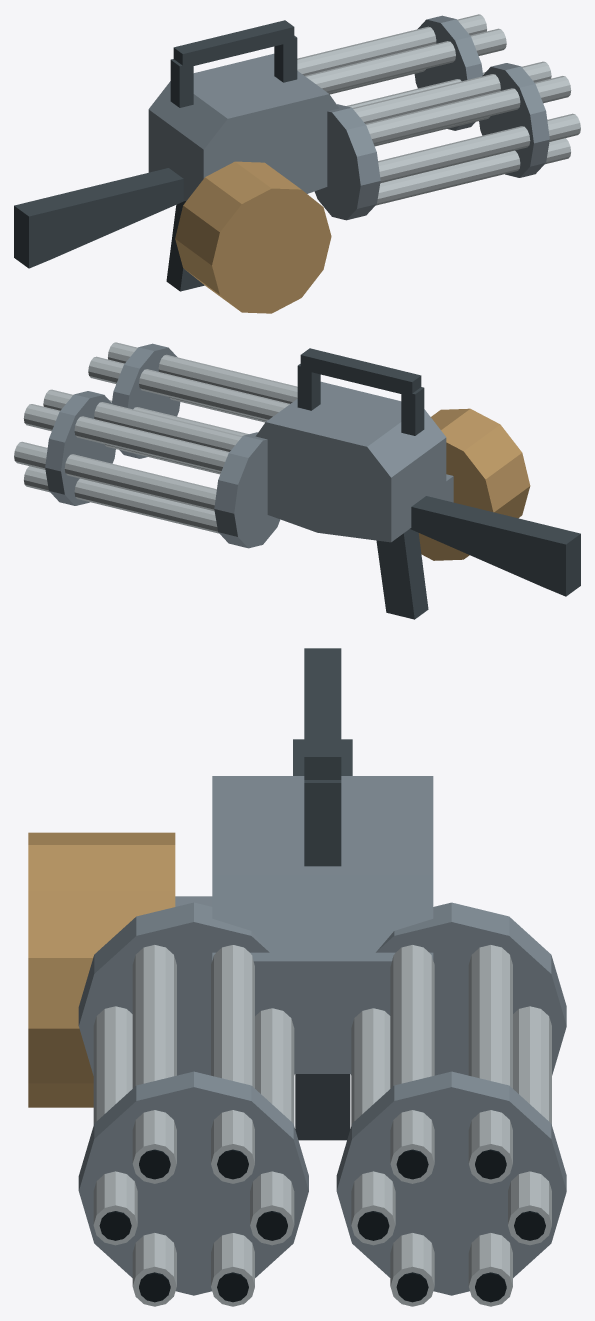
File: w09-hailstorm-static.glb
3 renders of one model, top to bottom at view 1: azimuth 30°, elevation 25°; view 2: azimuth 150°, elevation 25°; view 3: azimuth 270°, elevation 25°, orthographic. The views are drawn at different scales.
Visible parts, largest first — view 1: w09-hailstorm__receiver.001, w09-hailstorm__feed_drum.001, w09-hailstorm__stock.001, w09-hailstorm__rotor_rear_0.001, w09-hailstorm__tube_0_3.001, w09-hailstorm__tube_0_2.001, w09-hailstorm__tube_1_2.001, w09-hailstorm__rotor_front_0.001, w09-hailstorm__tube_0_4.001, w09-hailstorm__tube_0_1.001, w09-hailstorm__tube_1_1.001, w09-hailstorm__carry_handle_top.001 (+5 smaller); view 2: w09-hailstorm__receiver.001, w09-hailstorm__stock.001, w09-hailstorm__feed_drum.001, w09-hailstorm__rotor_rear_1.001, w09-hailstorm__tube_1_0.001, w09-hailstorm__tube_1_1.001, w09-hailstorm__tube_0_1.001, w09-hailstorm__rotor_front_1.001, w09-hailstorm__tube_1_5.001, w09-hailstorm__grip.001, w09-hailstorm__tube_1_2.001, w09-hailstorm__tube_0_2.001 (+5 smaller); view 3: w09-hailstorm__receiver.001, w09-hailstorm__feed_drum.001, w09-hailstorm__rotor_front_1.001, w09-hailstorm__rotor_front_0.001, w09-hailstorm__rotor_rear_1.001, w09-hailstorm__rotor_rear_0.001, w09-hailstorm__tube_0_2.001, w09-hailstorm__tube_1_2.001, w09-hailstorm__tube_1_1.001, w09-hailstorm__tube_0_1.001, w09-hailstorm__tube_0_3.001, w09-hailstorm__tube_0_0.001 (+10 smaller).
Part boxes in pixels (x1,y1,x2,y2): w09-hailstorm__receiver.001: [148, 53, 339, 201]; w09-hailstorm__feed_drum.001: [175, 161, 331, 313]; w09-hailstorm__stock.001: [14, 168, 184, 268]; w09-hailstorm__rotor_rear_0.001: [314, 104, 380, 220]; w09-hailstorm__tube_0_3.001: [378, 113, 580, 183]; w09-hailstorm__tube_0_2.001: [365, 76, 571, 144]; w09-hailstorm__tube_1_2.001: [305, 28, 506, 92]; w09-hailstorm__rotor_front_0.001: [479, 63, 549, 177]; w09-hailstorm__tube_0_4.001: [376, 138, 570, 205]; w09-hailstorm__tube_0_1.001: [352, 61, 551, 123]; w09-hailstorm__tube_1_1.001: [297, 14, 486, 75]; w09-hailstorm__carry_handle_top.001: [173, 20, 294, 68]; w09-hailstorm__receiver.001: [255, 381, 446, 542]; w09-hailstorm__stock.001: [410, 496, 580, 596]; w09-hailstorm__feed_drum.001: [418, 408, 530, 560]; w09-hailstorm__rotor_rear_1.001: [214, 432, 280, 548]; w09-hailstorm__tube_1_0.001: [14, 441, 216, 511]; w09-hailstorm__tube_1_1.001: [23, 404, 229, 472]; w09-hailstorm__tube_0_1.001: [88, 356, 289, 420]; w09-hailstorm__rotor_front_1.001: [45, 391, 115, 505]; w09-hailstorm__tube_1_5.001: [24, 466, 218, 533]; w09-hailstorm__grip.001: [376, 529, 428, 619]; w09-hailstorm__tube_1_2.001: [43, 389, 242, 451]; w09-hailstorm__tube_0_2.001: [108, 342, 297, 403]; w09-hailstorm__receiver.001: [212, 776, 433, 1073]; w09-hailstorm__feed_drum.001: [28, 832, 175, 1107]; w09-hailstorm__rotor_front_1.001: [336, 1071, 566, 1295]; w09-hailstorm__rotor_front_0.001: [78, 1071, 308, 1295]; w09-hailstorm__rotor_rear_1.001: [351, 902, 566, 1075]; w09-hailstorm__rotor_rear_0.001: [78, 902, 294, 1075]; w09-hailstorm__tube_0_2.001: [132, 945, 176, 1183]; w09-hailstorm__tube_1_2.001: [390, 945, 434, 1183]; w09-hailstorm__tube_1_1.001: [468, 945, 512, 1183]; w09-hailstorm__tube_0_1.001: [211, 945, 254, 1183]; w09-hailstorm__tube_0_3.001: [93, 1006, 137, 1245]; w09-hailstorm__tube_0_0.001: [250, 1008, 294, 1245].
Bounding box in the file's own units: 1.26 × 0.5623 × 0.585.
